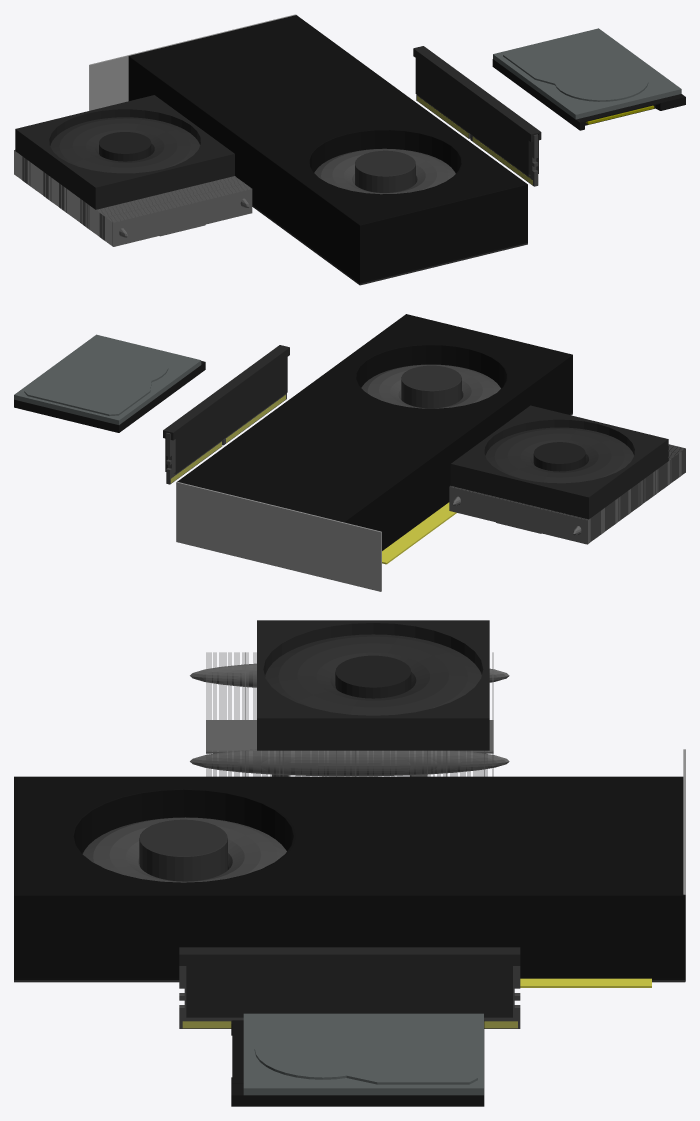
File: partes.glb
3 renders of one model, top to bottom at view 1: azimuth 30°, elevation 25°; view 2: azimuth 150°, elevation 25°; view 3: azimuth 270°, elevation 25°, orthographic. The views are drawn at different scales.
Parts seen in each view (by area): view 1: GPU, CPU Cooler, HHD, Cube.001; view 2: GPU, CPU Cooler, HHD, Cube.001; view 3: GPU, CPU Cooler, Cube.001, HHD.
Part boxes in pixels (x1=…): GPU: x1=89, y1=14, x2=527, y2=285; CPU Cooler: x1=14, y1=95, x2=252, y2=246; HHD: x1=492, y1=28, x2=685, y2=130; Cube.001: x1=413, y1=46, x2=541, y2=186; GPU: x1=176, y1=314, x2=572, y2=591; CPU Cooler: x1=449, y1=405, x2=685, y2=544; HHD: x1=14, y1=334, x2=205, y2=432; Cube.001: x1=163, y1=345, x2=289, y2=484; GPU: x1=14, y1=749, x2=685, y2=987; CPU Cooler: x1=190, y1=620, x2=509, y2=776; Cube.001: x1=179, y1=947, x2=520, y2=1028; HHD: x1=231, y1=1013, x2=484, y2=1106.
Size of the model in its own units: 38.43 by 5.07 by 26.59.
